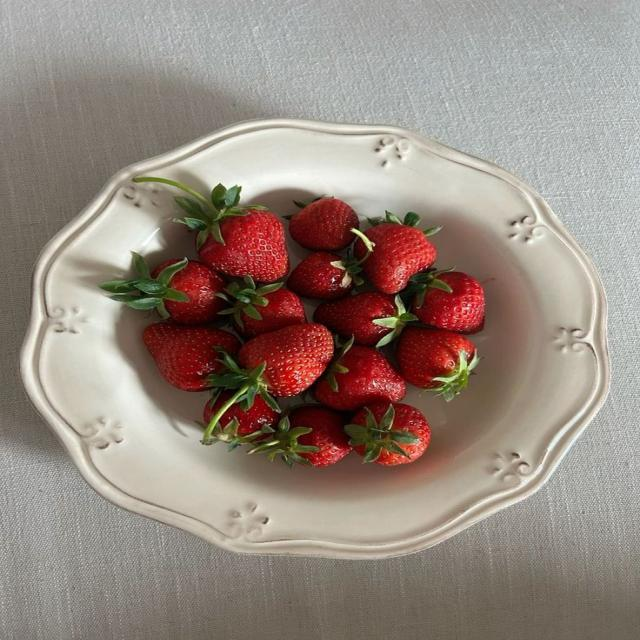strawberry: (134, 177, 288, 282), (203, 324, 333, 443), (100, 252, 225, 324), (238, 324, 333, 396), (314, 340, 406, 411), (143, 323, 239, 391), (250, 406, 352, 467), (363, 212, 439, 293), (397, 327, 479, 401), (287, 229, 373, 299), (314, 293, 416, 347), (219, 276, 306, 337), (346, 403, 430, 465), (410, 271, 485, 334), (289, 198, 359, 251), (211, 397, 279, 450), (287, 252, 353, 299)
